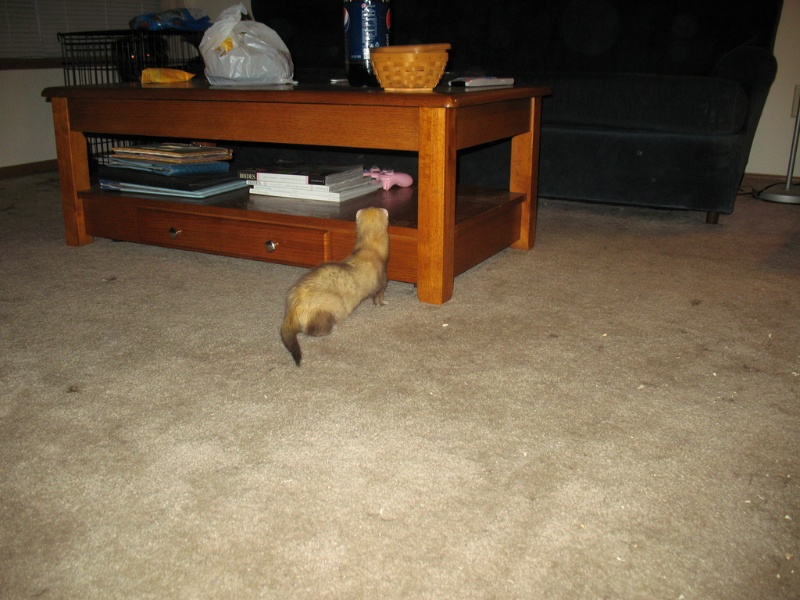minkish: (283, 207, 396, 371)
